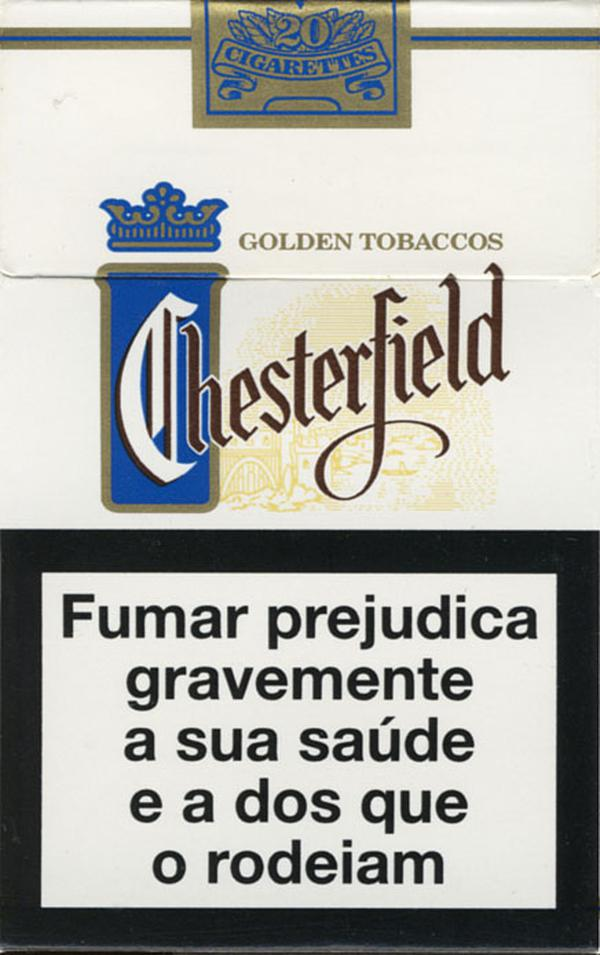chesterfield_blue: (1, 1, 598, 946)
